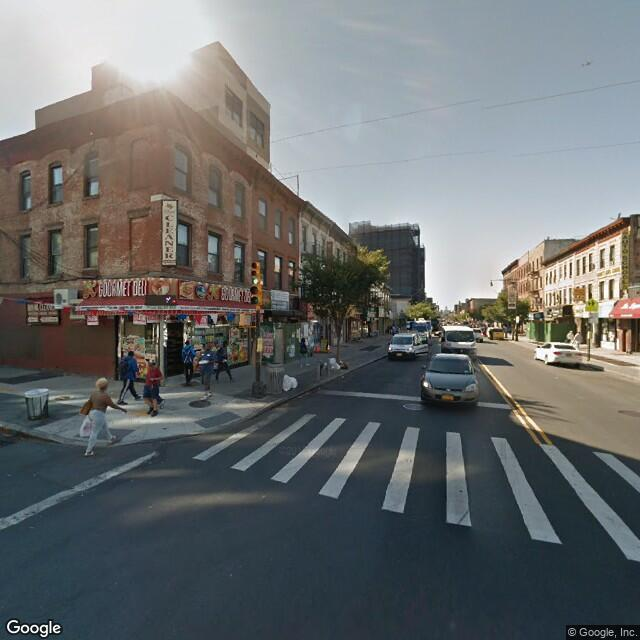litter: (273, 370, 324, 392), (322, 356, 361, 375)
